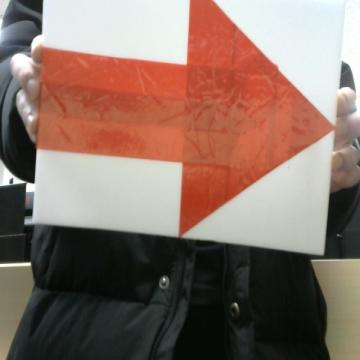red_right: (39, 0, 331, 236)
